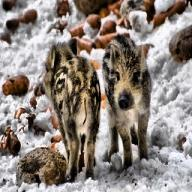boar: (41, 37, 102, 182), (102, 34, 152, 170)
